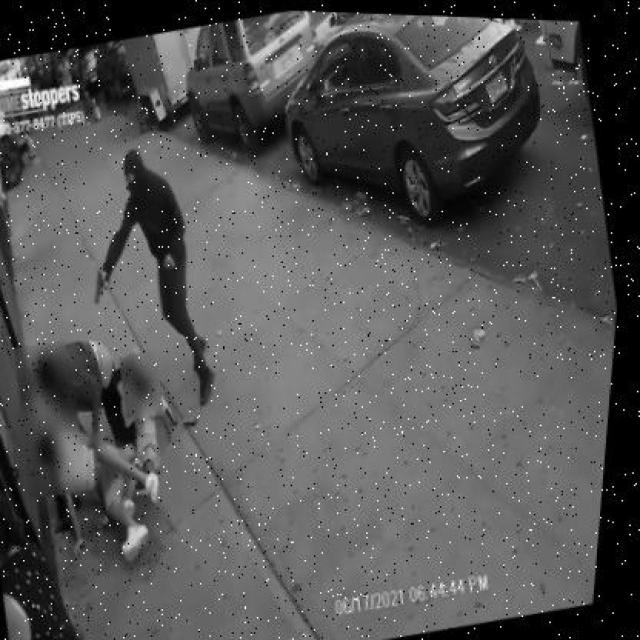weapon: (93, 273, 107, 307)
